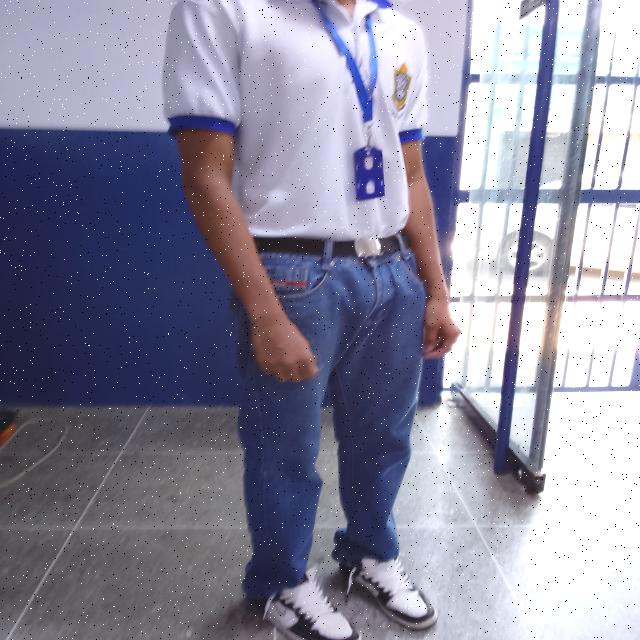carnet: (352, 150, 386, 200)
uniforme_superior: (161, 0, 431, 239)
